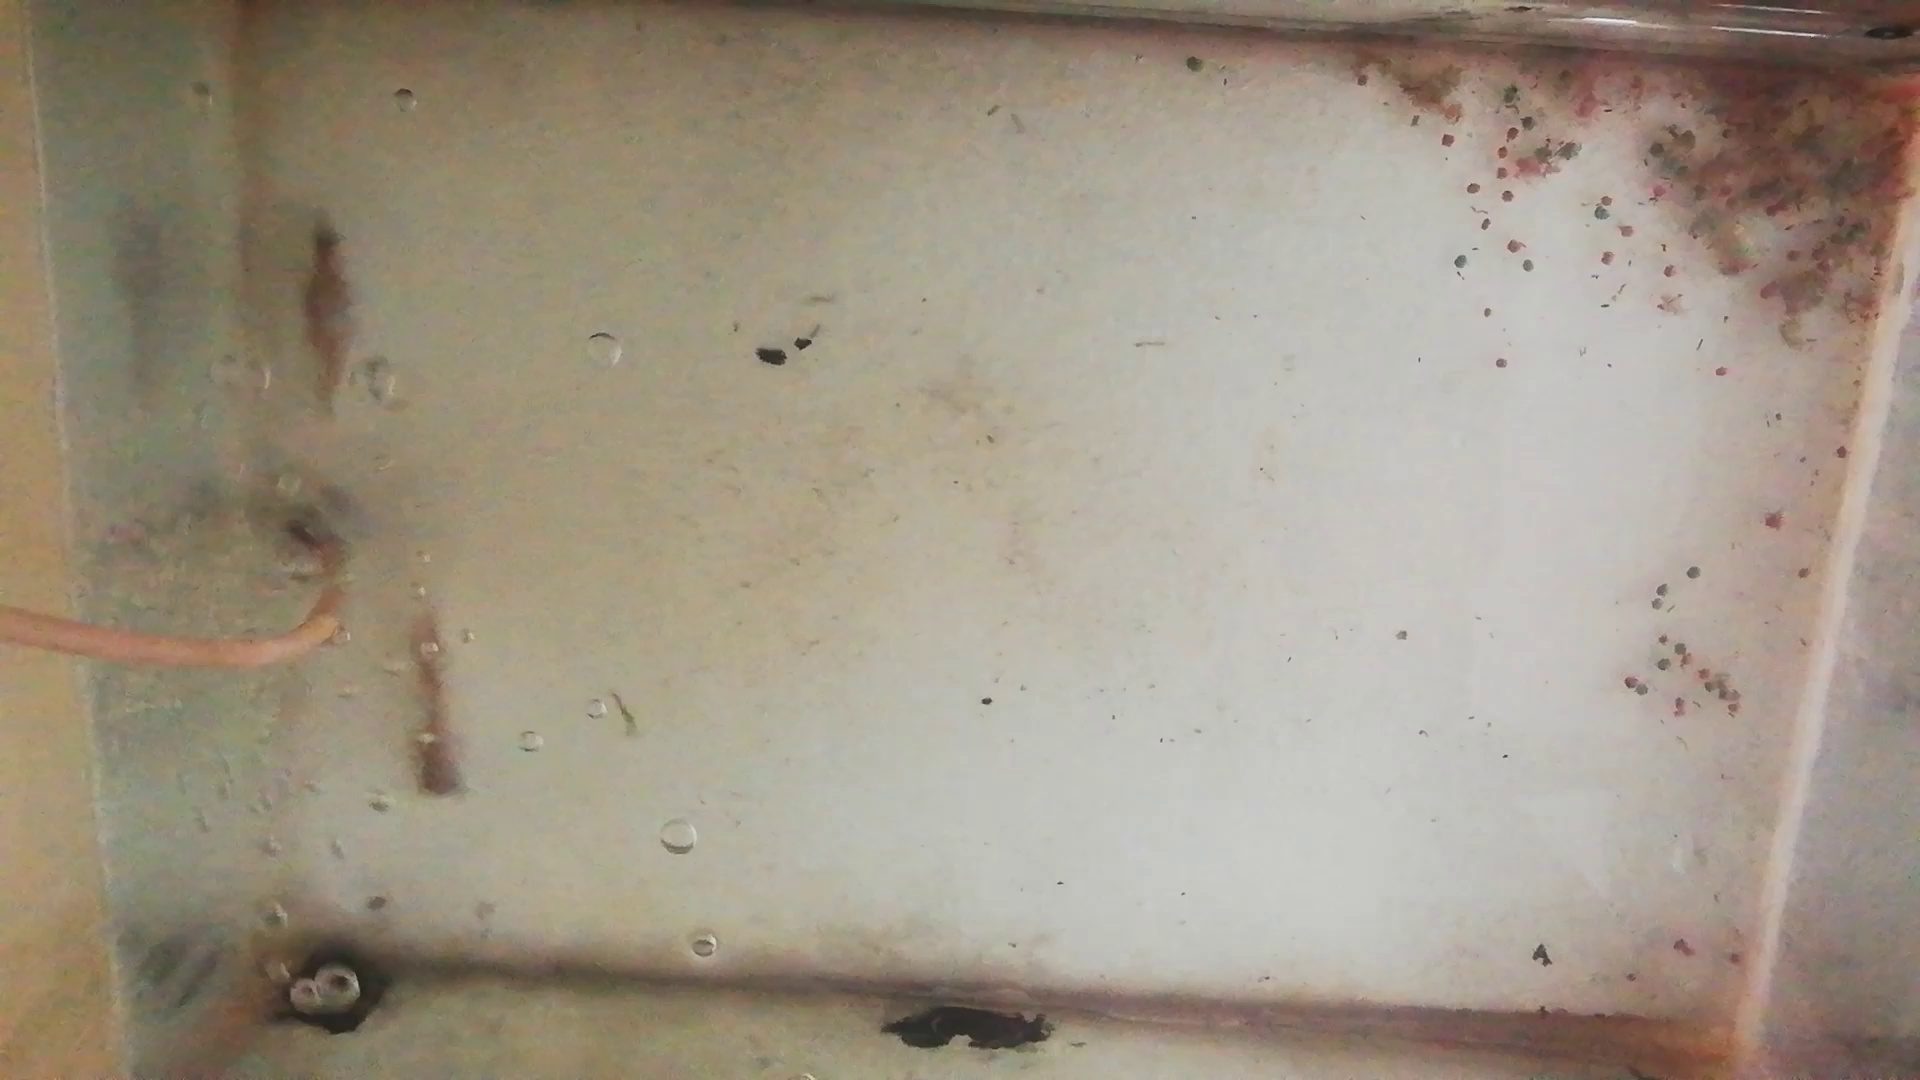fish: (404, 607, 468, 796), (302, 210, 353, 425)
